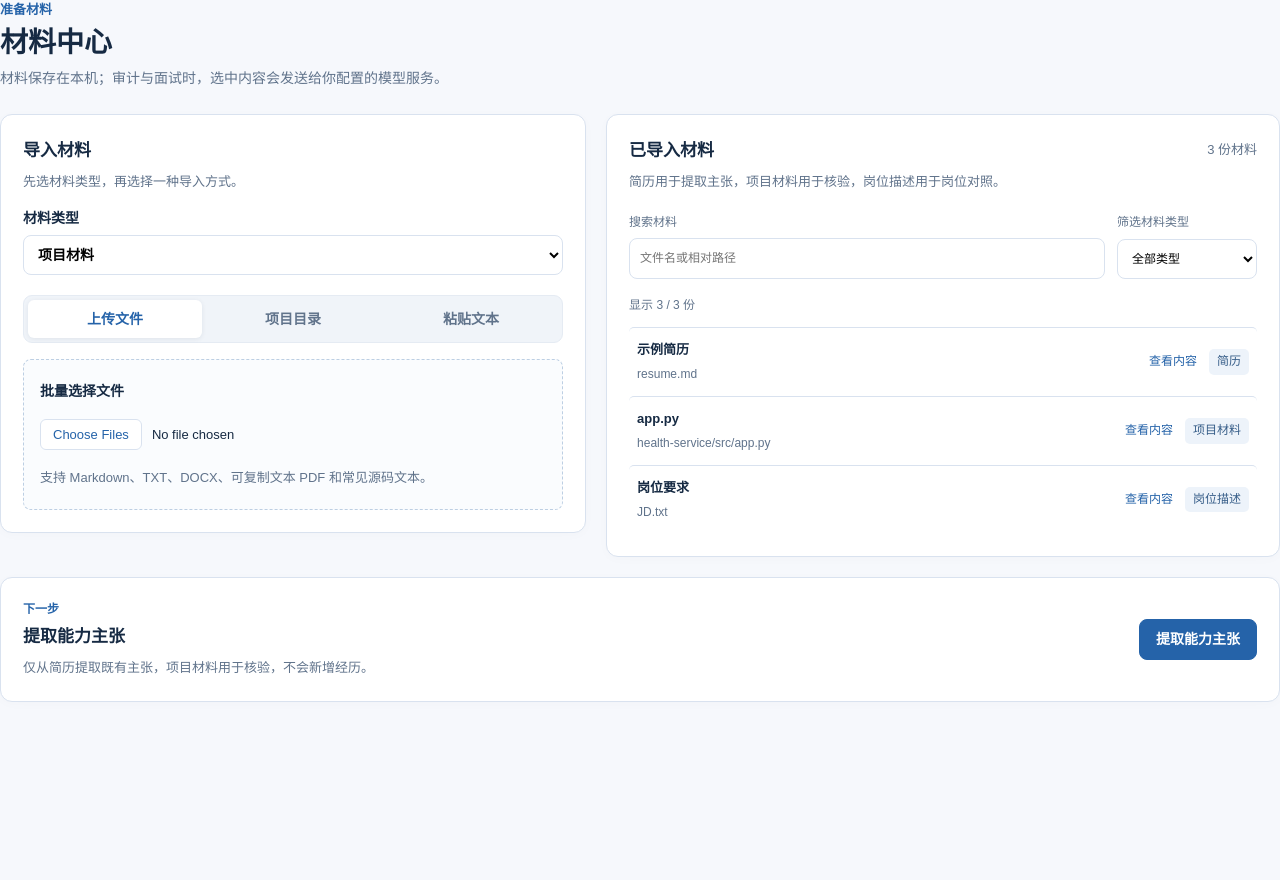
Test: 主动查看才GET片段，以纯文本展示原文和定位，不改变任务
Click the button "app.py health-service/src/app.py 查看内容": (658, 418) [637,409,1173,453]
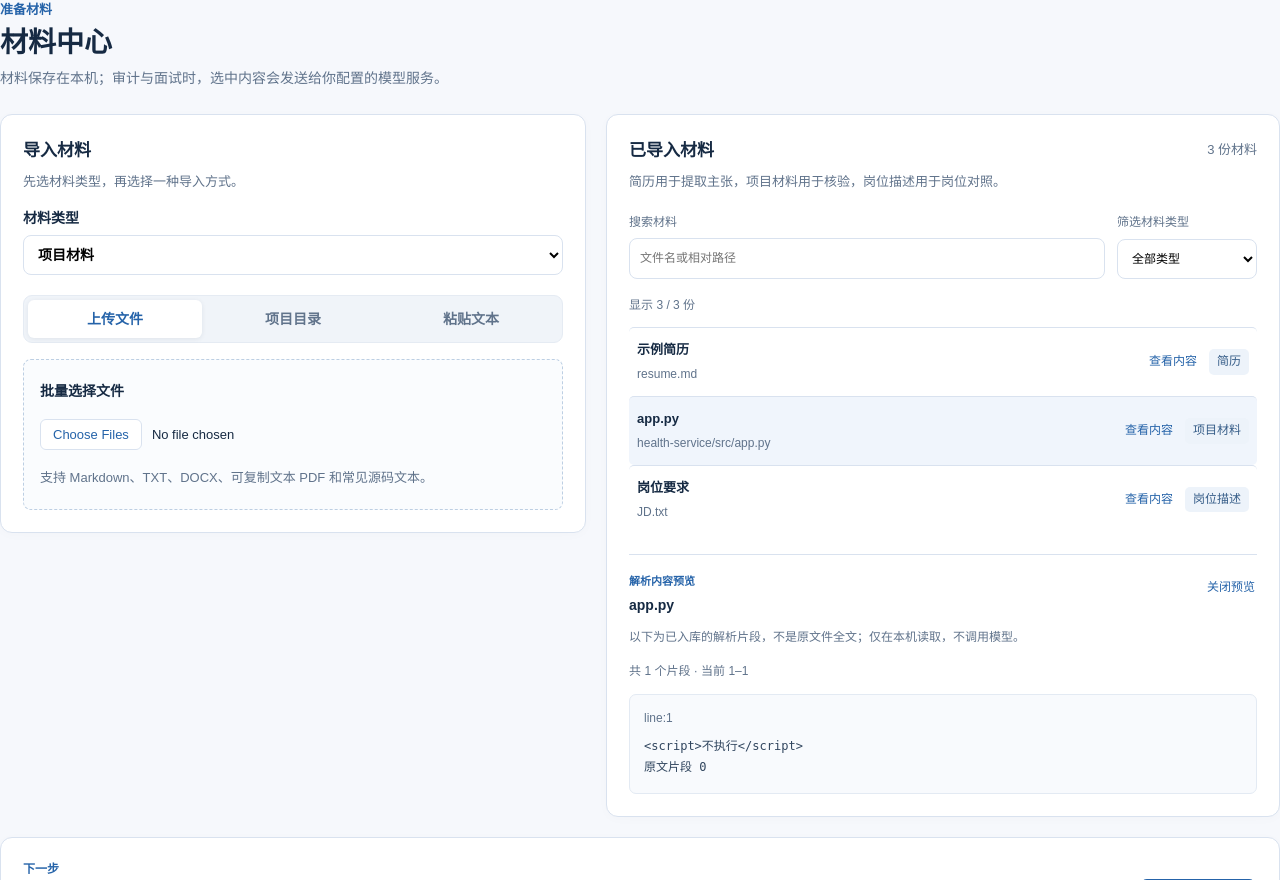
Expected: the text "<script>不执行</script> 原文片段 0" is shown, [644,739,803,774]
Expected: the text "line:1" is shown, [644,711,673,725]
Expected: the element "解析内容预览" shows "不是原文件全文", [629,630,1025,644]
Click the button "关闭预览": (1231, 588) [1205,573,1257,602]
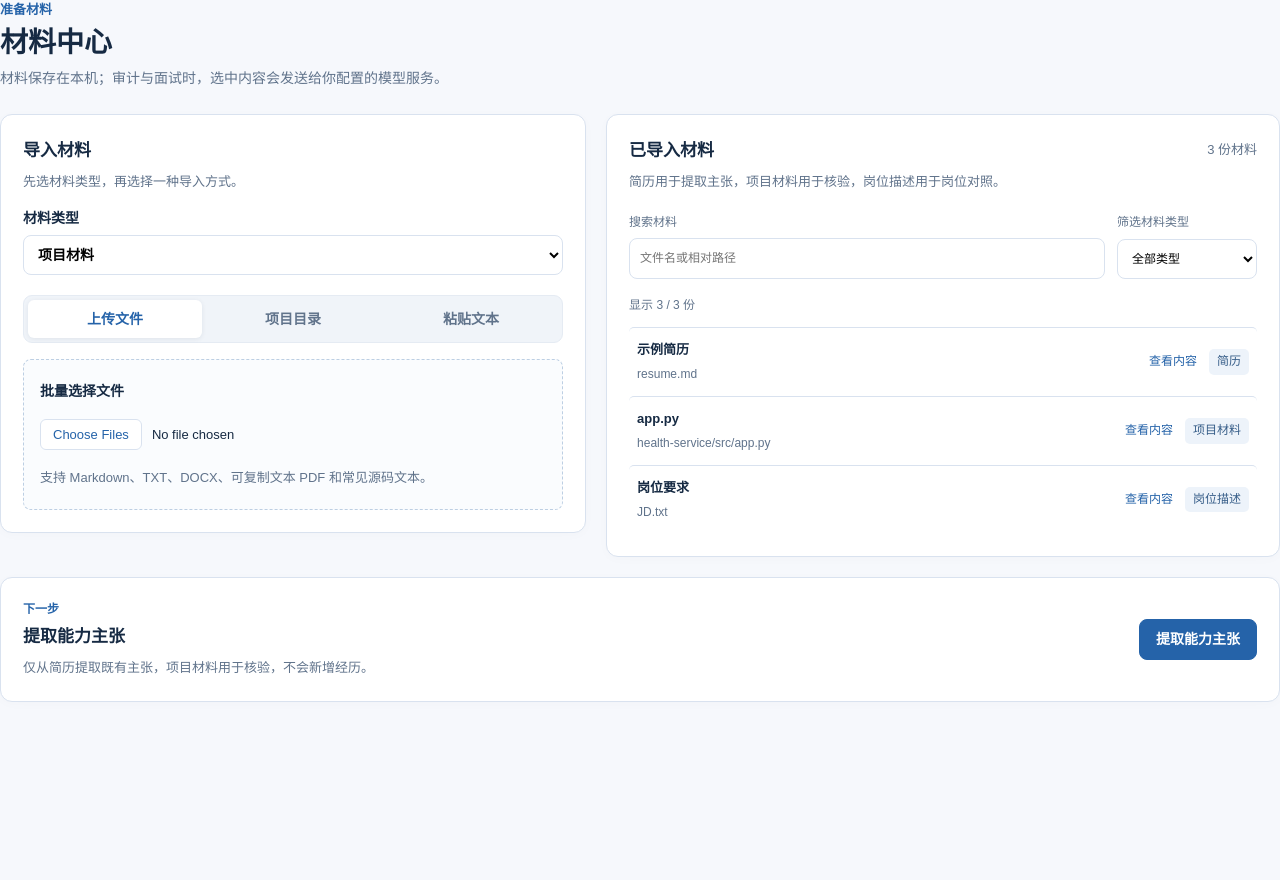
Expected: the text "解析内容预览" is gone
